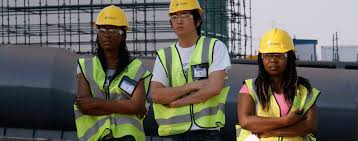Person_wearing_helmet: (87, 0, 127, 37), (252, 24, 291, 58), (164, 0, 200, 22)
